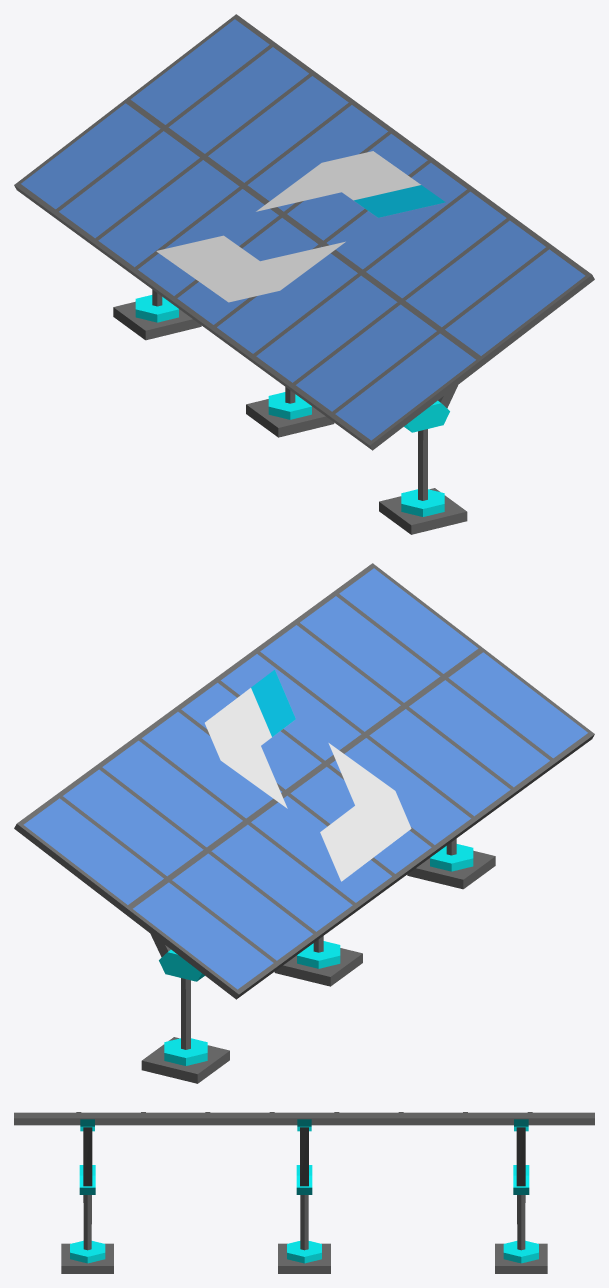
The model's file is solar_panel_dark.gltf.
3 renders of one model, top to bottom at view 1: azimuth 30°, elevation 25°; view 2: azimuth 150°, elevation 25°; view 3: azimuth 270°, elevation 25°, orthographic. The views are drawn at different scales.
Parts seen in each view (by area): view 1: panel-Mat.1, panel-dark_grey, logo, leg3-dark_grey, leg3-blue, leg1-dark_grey, leg2-dark_grey, leg1-blue, leg2-blue; view 2: panel-Mat.1, panel-dark_grey, logo, leg1-dark_grey, leg1-blue, leg2-dark_grey, leg3-dark_grey, leg3-blue, leg2-blue; view 3: panel-dark_grey, leg1-dark_grey, leg3-dark_grey, leg2-dark_grey, leg1-blue, leg3-blue, leg2-blue.
Part boxes in pixels (<box>): panel-Mat.1: <box>21,19,585,440</box>; panel-dark_grey: <box>14,14,594,450</box>; logo: <box>156,151,445,302</box>; leg3-dark_grey: <box>379,385,467,534</box>; leg3-blue: <box>401,400,449,516</box>; leg1-dark_grey: <box>113,289,201,340</box>; leg2-dark_grey: <box>246,387,334,437</box>; leg1-blue: <box>135,295,178,322</box>; leg2-blue: <box>268,392,311,419</box>; panel-Mat.1: <box>23,568,587,989</box>; panel-dark_grey: <box>14,563,594,999</box>; logo: <box>204,670,411,881</box>; leg1-dark_grey: <box>141,934,229,1083</box>; leg1-blue: <box>159,949,207,1065</box>; leg2-dark_grey: <box>274,936,362,986</box>; leg3-dark_grey: <box>407,838,495,889</box>; leg3-blue: <box>430,844,473,871</box>; leg2-blue: <box>297,941,340,968</box>; panel-dark_grey: <box>14,1112,594,1125</box>; leg1-dark_grey: <box>495,1127,547,1273</box>; leg3-dark_grey: <box>61,1127,113,1273</box>; leg2-dark_grey: <box>278,1127,330,1273</box>; leg1-blue: <box>503,1119,538,1263</box>; leg3-blue: <box>70,1119,105,1263</box>; leg2-blue: <box>287,1119,321,1263</box>.
Bounding box in the file's own units: 6.02 × 6.25 × 16.5.
4 materials, 1 textured.
